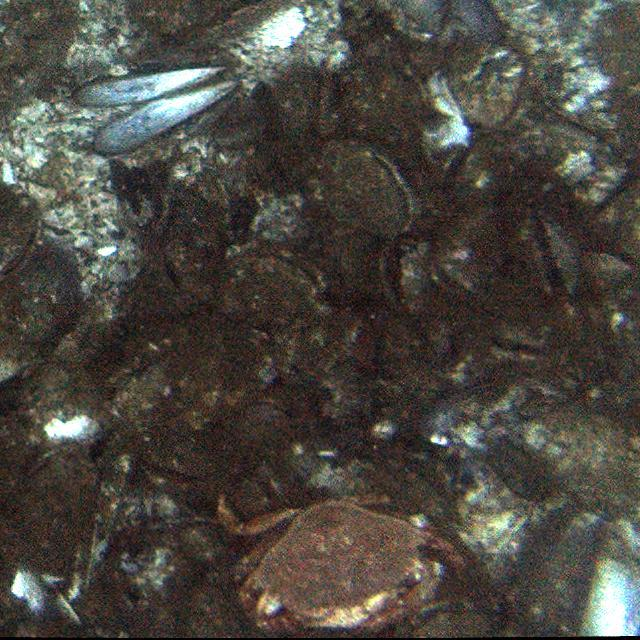crab: (215, 492, 464, 636)
